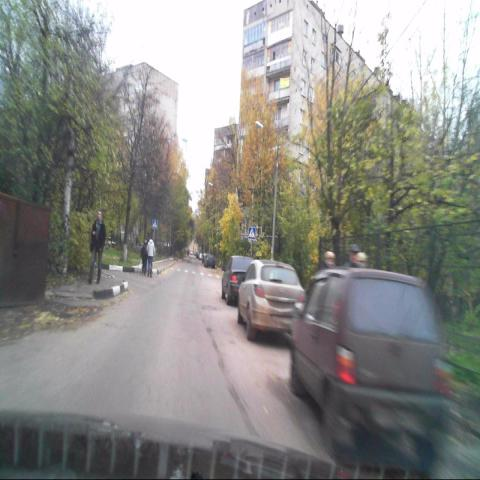5_19_1: (248, 227, 255, 240)
